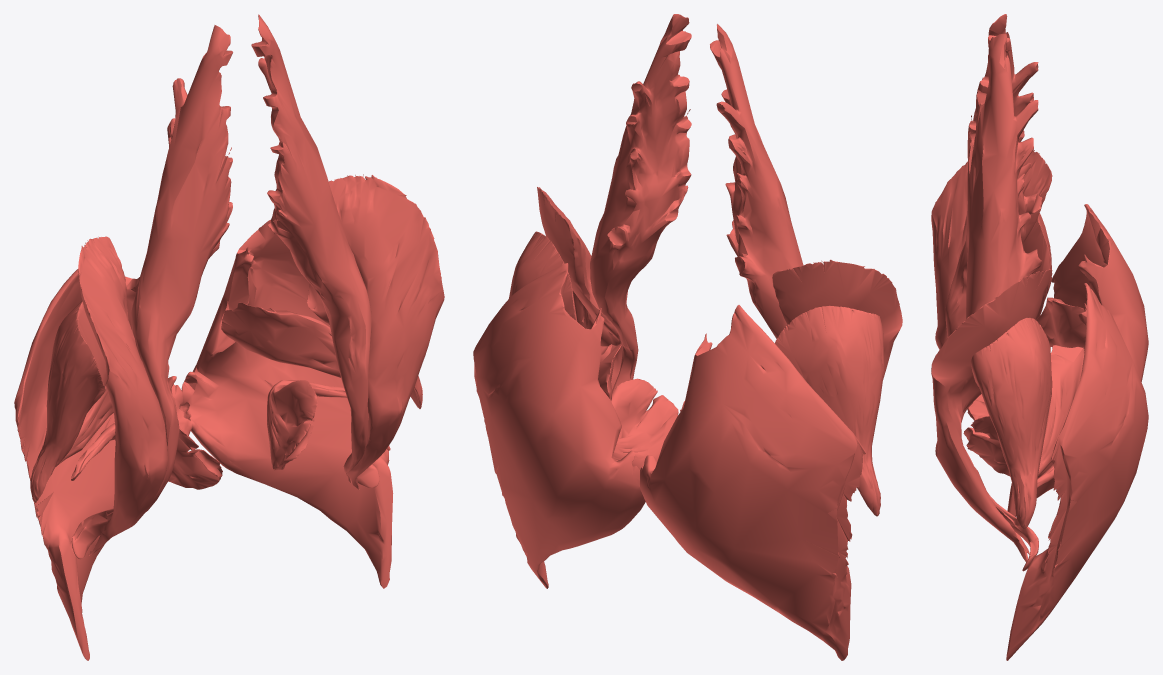
Rendered from supplement-hip-pelvis-muscle.glb.
3 views of the same model, side by side, from view 1: azimuth 30°, elevation 25°; view 2: azimuth 150°, elevation 25°; view 3: azimuth 270°, elevation 25° (orthographic). The views are drawn at different scales.
Visible parts, largest first — view 1: hip-pelvis:gluteus-maximus:isa:FJ1418M, hip-pelvis:psoas-major:isa:FJ1431, hip-pelvis:iliacus:isa:FJ1422M, hip-pelvis:psoas-major:isa:FJ1431M, hip-pelvis:gluteus-maximus:isa:FJ1418, hip-pelvis:iliacus:isa:FJ1422, hip-pelvis:gluteus-minimus:isa:FJ1420, hip-pelvis:piriformis:isa:FJ1428M, hip-pelvis:obturator-internus:isa:FJ1426M, hip-pelvis:obturator-internus:isa:FJ1426, hip-pelvis:piriformis:isa:FJ1428, hip-pelvis:gluteus-minimus:isa:FJ1420M; view 2: hip-pelvis:gluteus-maximus:isa:FJ1418, hip-pelvis:gluteus-maximus:isa:FJ1418M, hip-pelvis:psoas-major:isa:FJ1431M, hip-pelvis:psoas-major:isa:FJ1431, hip-pelvis:gluteus-minimus:isa:FJ1420, hip-pelvis:iliacus:isa:FJ1422, hip-pelvis:obturator-internus:isa:FJ1426M, hip-pelvis:iliacus:isa:FJ1422M, hip-pelvis:gluteus-minimus:isa:FJ1420M, hip-pelvis:piriformis:isa:FJ1428M; view 3: hip-pelvis:gluteus-maximus:isa:FJ1418M, hip-pelvis:psoas-major:isa:FJ1431M, hip-pelvis:iliacus:isa:FJ1422M, hip-pelvis:gluteus-minimus:isa:FJ1420M, hip-pelvis:gluteus-maximus:isa:FJ1418, hip-pelvis:iliacus:isa:FJ1422, hip-pelvis:psoas-major:isa:FJ1431, hip-pelvis:piriformis:isa:FJ1428M, hip-pelvis:piriformis:isa:FJ1428, hip-pelvis:obturator-internus:isa:FJ1426M, hip-pelvis:gluteus-minimus:isa:FJ1420, hip-pelvis:obturator-internus:isa:FJ1426.
Part boxes in pixels (bbox=[...]): hip-pelvis:gluteus-maximus:isa:FJ1418M: bbox=[181, 208, 393, 588]; hip-pelvis:psoas-major:isa:FJ1431: bbox=[71, 25, 232, 559]; hip-pelvis:iliacus:isa:FJ1422M: bbox=[328, 174, 444, 489]; hip-pelvis:psoas-major:isa:FJ1431M: bbox=[251, 14, 379, 487]; hip-pelvis:gluteus-maximus:isa:FJ1418: bbox=[14, 269, 192, 660]; hip-pelvis:iliacus:isa:FJ1422: bbox=[78, 236, 167, 555]; hip-pelvis:gluteus-minimus:isa:FJ1420: bbox=[30, 300, 107, 502]; hip-pelvis:piriformis:isa:FJ1428M: bbox=[221, 302, 340, 377]; hip-pelvis:obturator-internus:isa:FJ1426M: bbox=[267, 380, 347, 470]; hip-pelvis:obturator-internus:isa:FJ1426: bbox=[71, 423, 222, 489]; hip-pelvis:piriformis:isa:FJ1428: bbox=[57, 386, 113, 465]; hip-pelvis:gluteus-minimus:isa:FJ1420M: bbox=[307, 284, 422, 408]; hip-pelvis:gluteus-maximus:isa:FJ1418: bbox=[640, 305, 865, 660]; hip-pelvis:gluteus-maximus:isa:FJ1418M: bbox=[473, 263, 645, 588]; hip-pelvis:psoas-major:isa:FJ1431M: bbox=[590, 14, 691, 393]; hip-pelvis:psoas-major:isa:FJ1431: bbox=[710, 24, 803, 338]; hip-pelvis:gluteus-minimus:isa:FJ1420: bbox=[775, 305, 883, 516]; hip-pelvis:iliacus:isa:FJ1422: bbox=[772, 259, 902, 379]; hip-pelvis:obturator-internus:isa:FJ1426M: bbox=[611, 378, 678, 469]; hip-pelvis:iliacus:isa:FJ1422M: bbox=[537, 187, 622, 389]; hip-pelvis:gluteus-minimus:isa:FJ1420M: bbox=[509, 231, 577, 321]; hip-pelvis:piriformis:isa:FJ1428M: bbox=[598, 344, 621, 400]; hip-pelvis:gluteus-maximus:isa:FJ1418M: bbox=[1006, 283, 1148, 660]; hip-pelvis:psoas-major:isa:FJ1431M: bbox=[961, 34, 1042, 571]; hip-pelvis:iliacus:isa:FJ1422M: bbox=[931, 269, 1052, 562]; hip-pelvis:gluteus-minimus:isa:FJ1420M: bbox=[970, 317, 1052, 528]; hip-pelvis:gluteus-maximus:isa:FJ1418: bbox=[1007, 204, 1148, 516]; hip-pelvis:iliacus:isa:FJ1422: bbox=[931, 150, 1052, 349]; hip-pelvis:psoas-major:isa:FJ1431: bbox=[945, 14, 1042, 337]; hip-pelvis:piriformis:isa:FJ1428M: bbox=[1037, 345, 1084, 477]; hip-pelvis:piriformis:isa:FJ1428: bbox=[1036, 297, 1086, 349]; hip-pelvis:obturator-internus:isa:FJ1426M: bbox=[963, 416, 1054, 487]; hip-pelvis:gluteus-minimus:isa:FJ1420: bbox=[1023, 213, 1052, 318]; hip-pelvis:obturator-internus:isa:FJ1426: bbox=[967, 394, 989, 420].
Bounding box in the file's own units: 0.2908 × 0.431 × 0.1493.
